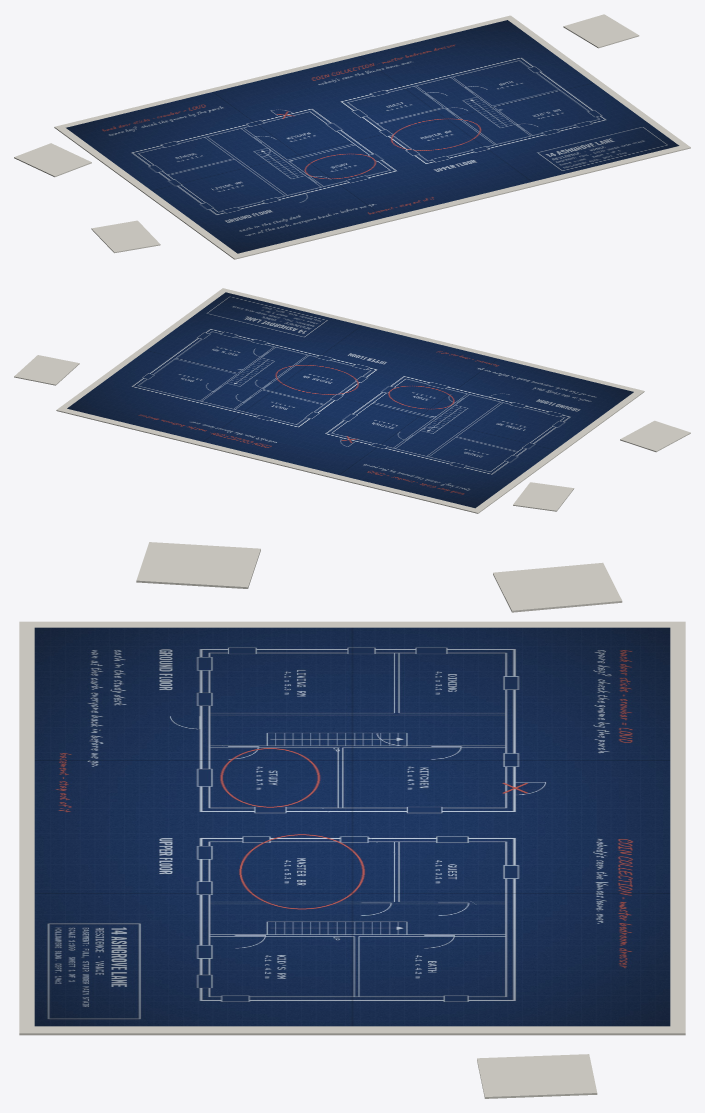
Rendered from SM_HO_PlanningSheets.fbx.
The picture shows the model from 3 angles, top to bottom: view 1: azimuth 30°, elevation 25°; view 2: azimuth 150°, elevation 25°; view 3: azimuth 270°, elevation 25°; orthographic projection. The views are drawn at different scales.
Parts seen in each view (by area): view 1: SM_HO_PlanningSheets_1; view 2: SM_HO_PlanningSheets_1; view 3: SM_HO_PlanningSheets_1.
Boxes of the visible parts, bbox=[...] form: SM_HO_PlanningSheets_1: bbox=[14, 14, 690, 259]; SM_HO_PlanningSheets_1: bbox=[14, 288, 690, 513]; SM_HO_PlanningSheets_1: bbox=[19, 542, 685, 1098].
Bounding box in the file's own units: 128 × 0.55 × 65.
